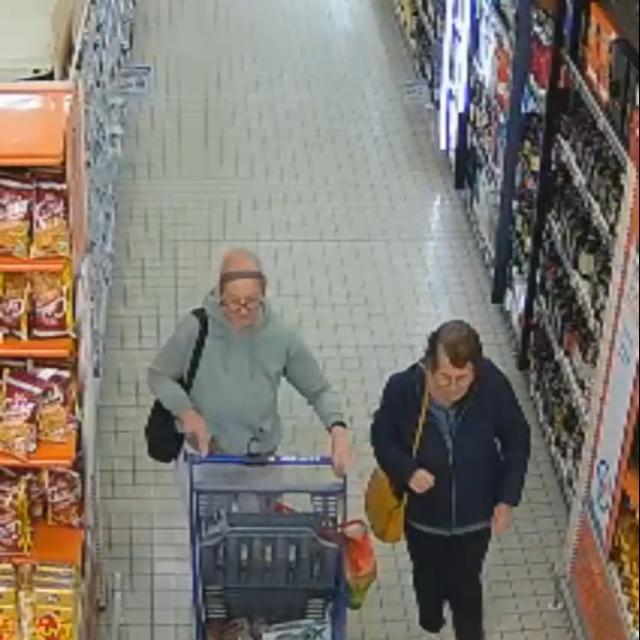bags: (365, 467, 408, 543), (179, 308, 208, 393)
hands: (180, 410, 210, 455), (331, 426, 351, 477), (409, 469, 435, 494), (492, 504, 512, 535)
person: (149, 249, 349, 503), (371, 320, 530, 639)
